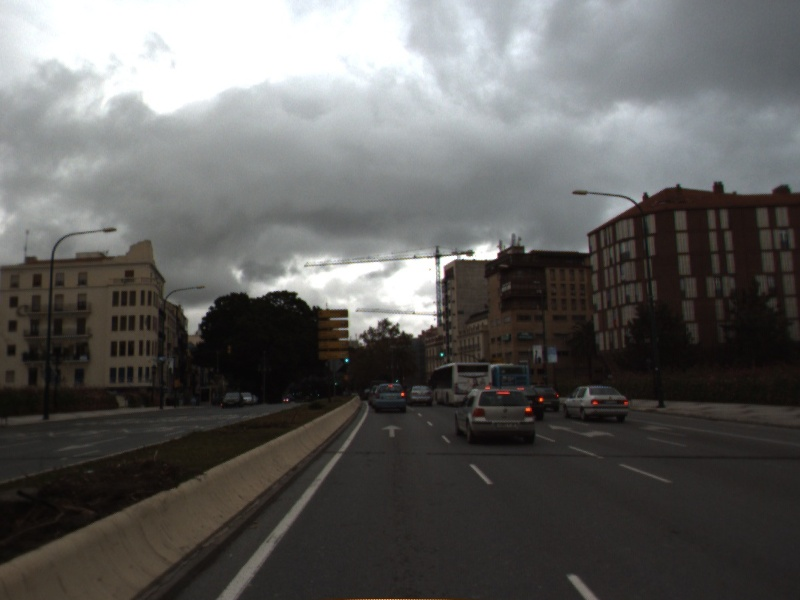RIGHT: (635, 421, 691, 439)
STRAIGHT: (379, 422, 406, 439)
STRAIGHT_RIGHT: (546, 421, 618, 442)
